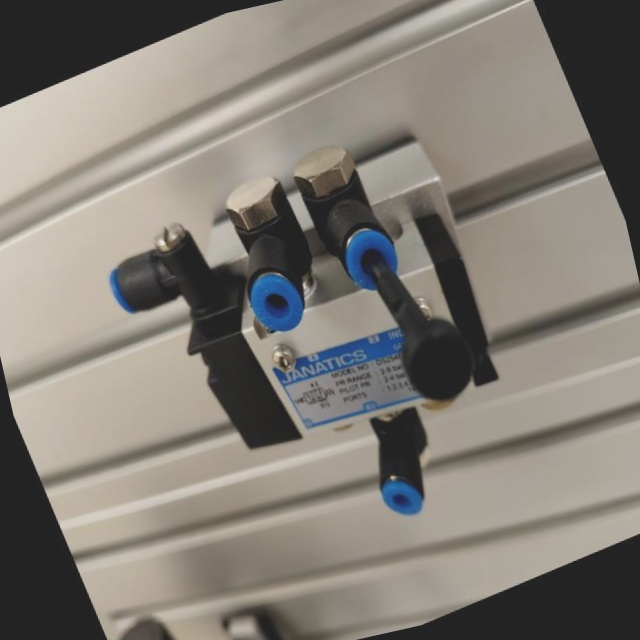5by2 DCV: (69, 79, 591, 613)
